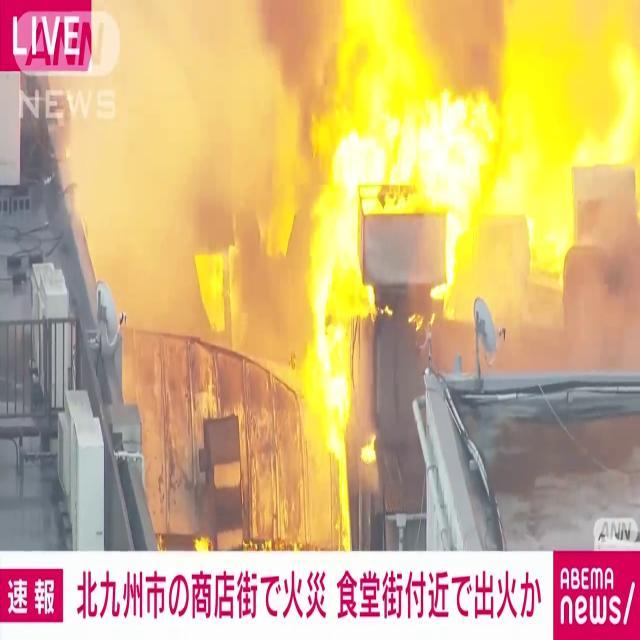Fire: (333, 0, 517, 273), (304, 152, 378, 477)
